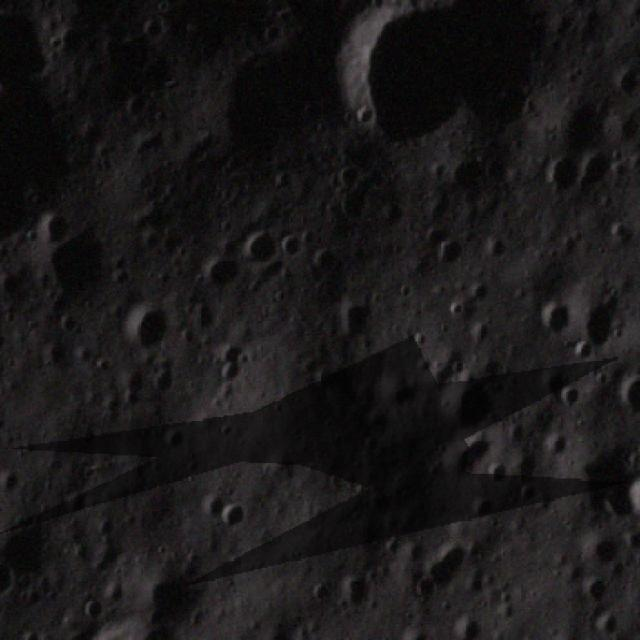crater: (352, 5, 546, 157), (41, 213, 125, 304), (408, 534, 472, 609), (148, 565, 218, 629), (118, 294, 184, 360), (438, 372, 496, 438), (442, 429, 487, 494), (192, 250, 246, 296), (241, 224, 288, 267), (540, 153, 583, 199), (342, 573, 381, 613), (553, 377, 590, 418), (435, 229, 463, 280), (534, 298, 569, 336), (217, 494, 249, 535), (542, 430, 573, 468), (276, 234, 306, 263)
